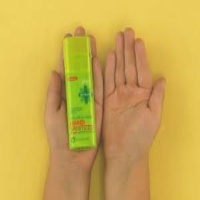ring: (112, 30, 127, 89), (90, 33, 98, 57)
